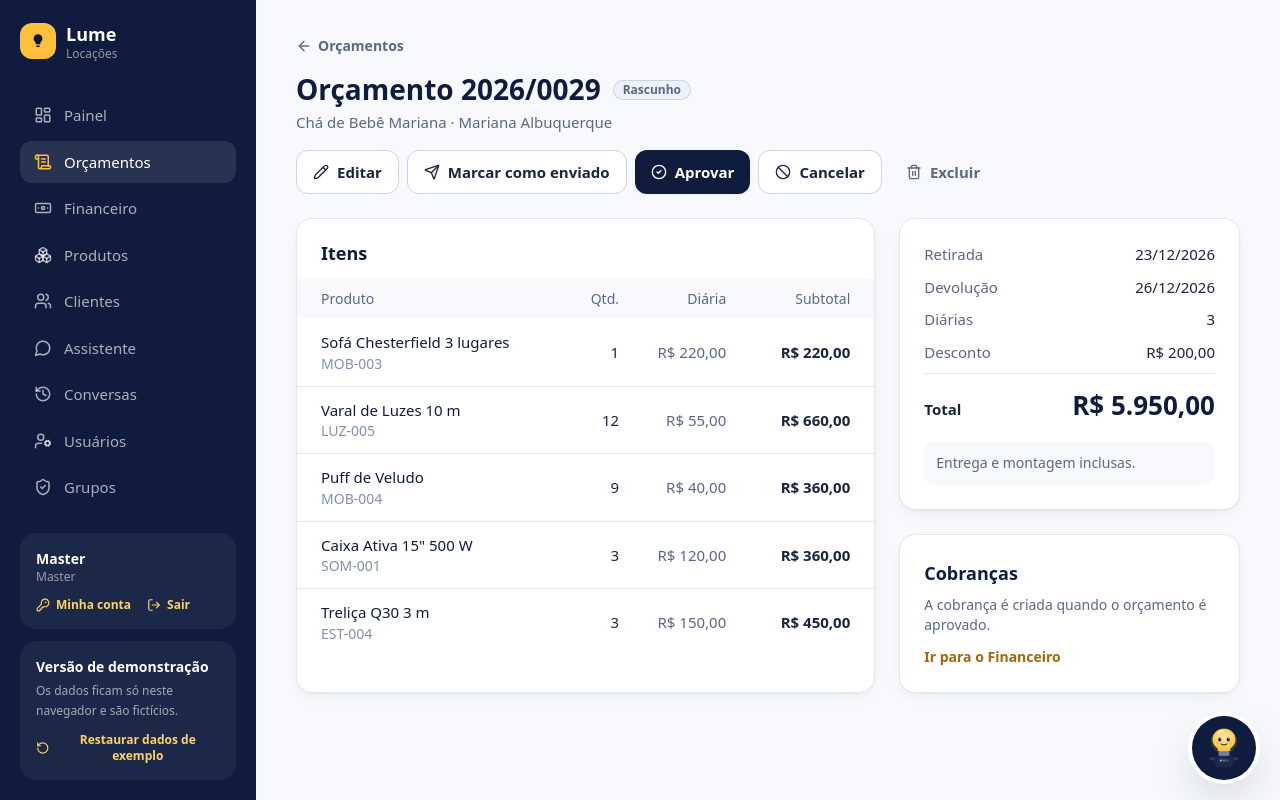
Orçamentos › edita e cancela um rascunho; botões mudam conforme o status
The width and height of the screenshot is (1280, 800).
Expected: the link "Editar" is shown, x1=296 y1=150 x2=399 y2=194
Expected: the button "Marcar como enviado" is shown, x1=407 y1=150 x2=627 y2=194
Step 1. Click the button "Cancelar" → [820, 172], box x1=758 y1=150 x2=882 y2=194
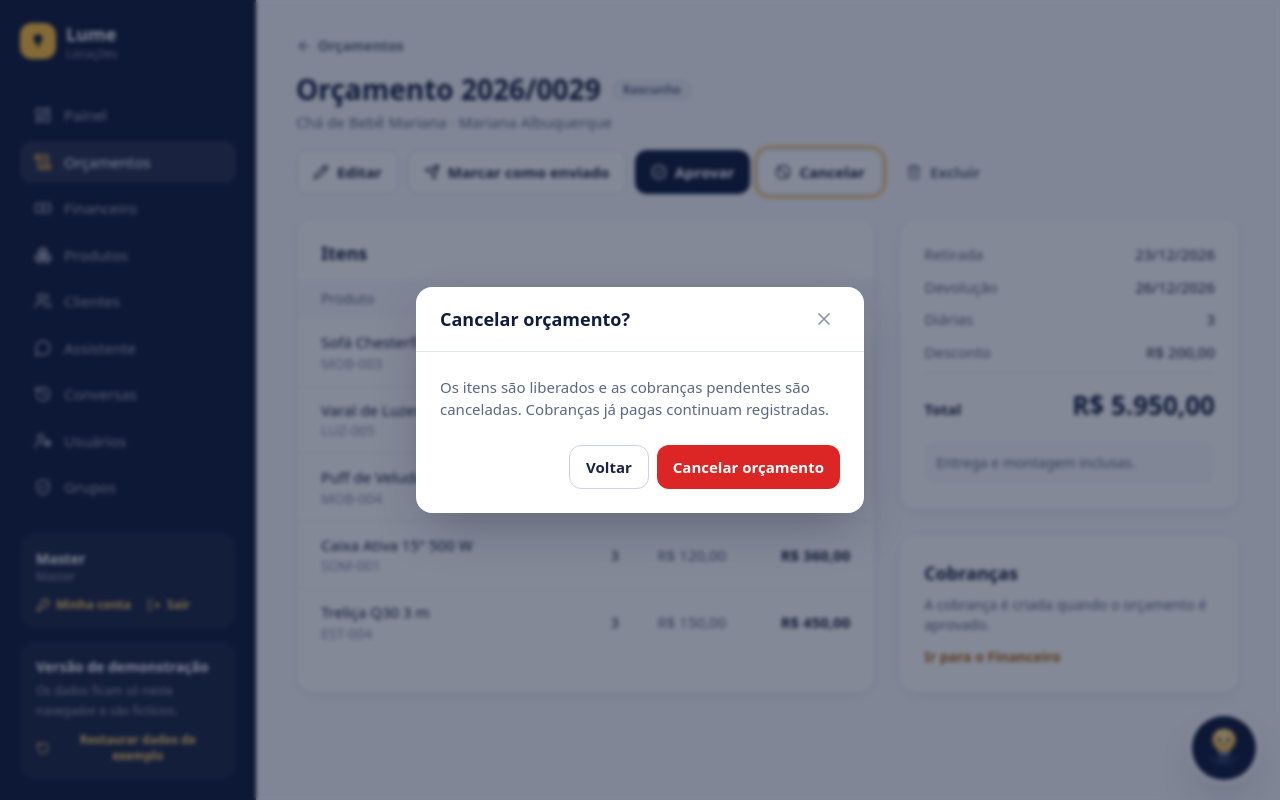
Step 2. Click the button "Cancelar orçamento" → [748, 467], box x1=657 y1=445 x2=840 y2=489
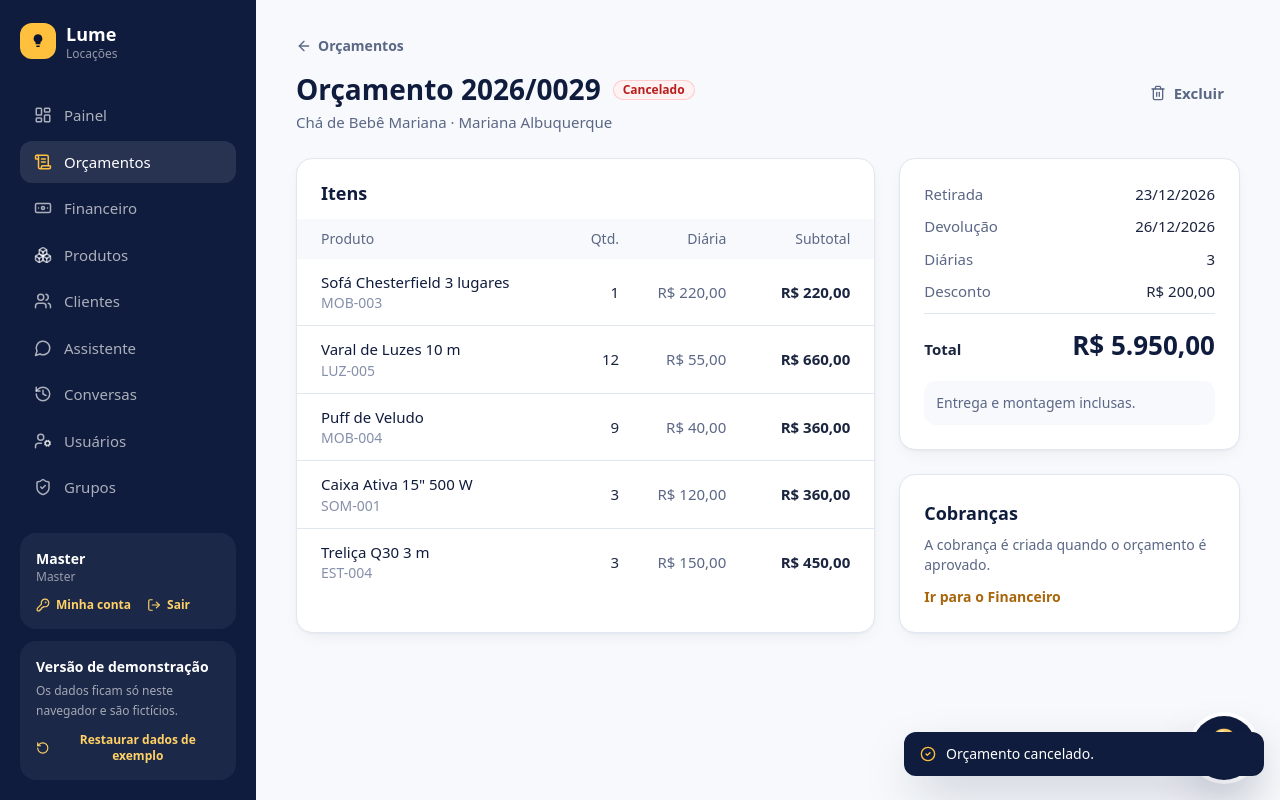
Expected: the button "Excluir" is shown, x1=1134 y1=72 x2=1240 y2=114
Expected: the text "Orçamento cancelado." is shown, x1=904 y1=732 x2=1264 y2=776
